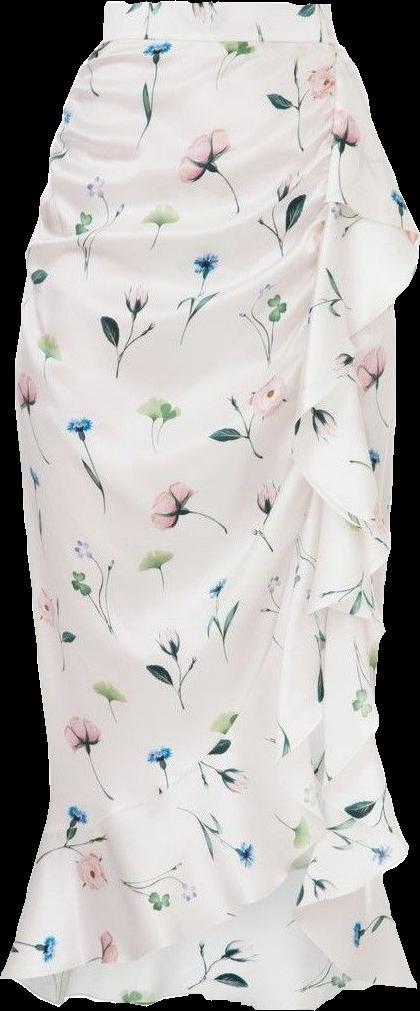Hemline: (8, 115, 419, 982), (292, 682, 419, 986)
Waistline: (42, 46, 345, 836), (98, 30, 340, 46), (103, 0, 330, 9)
